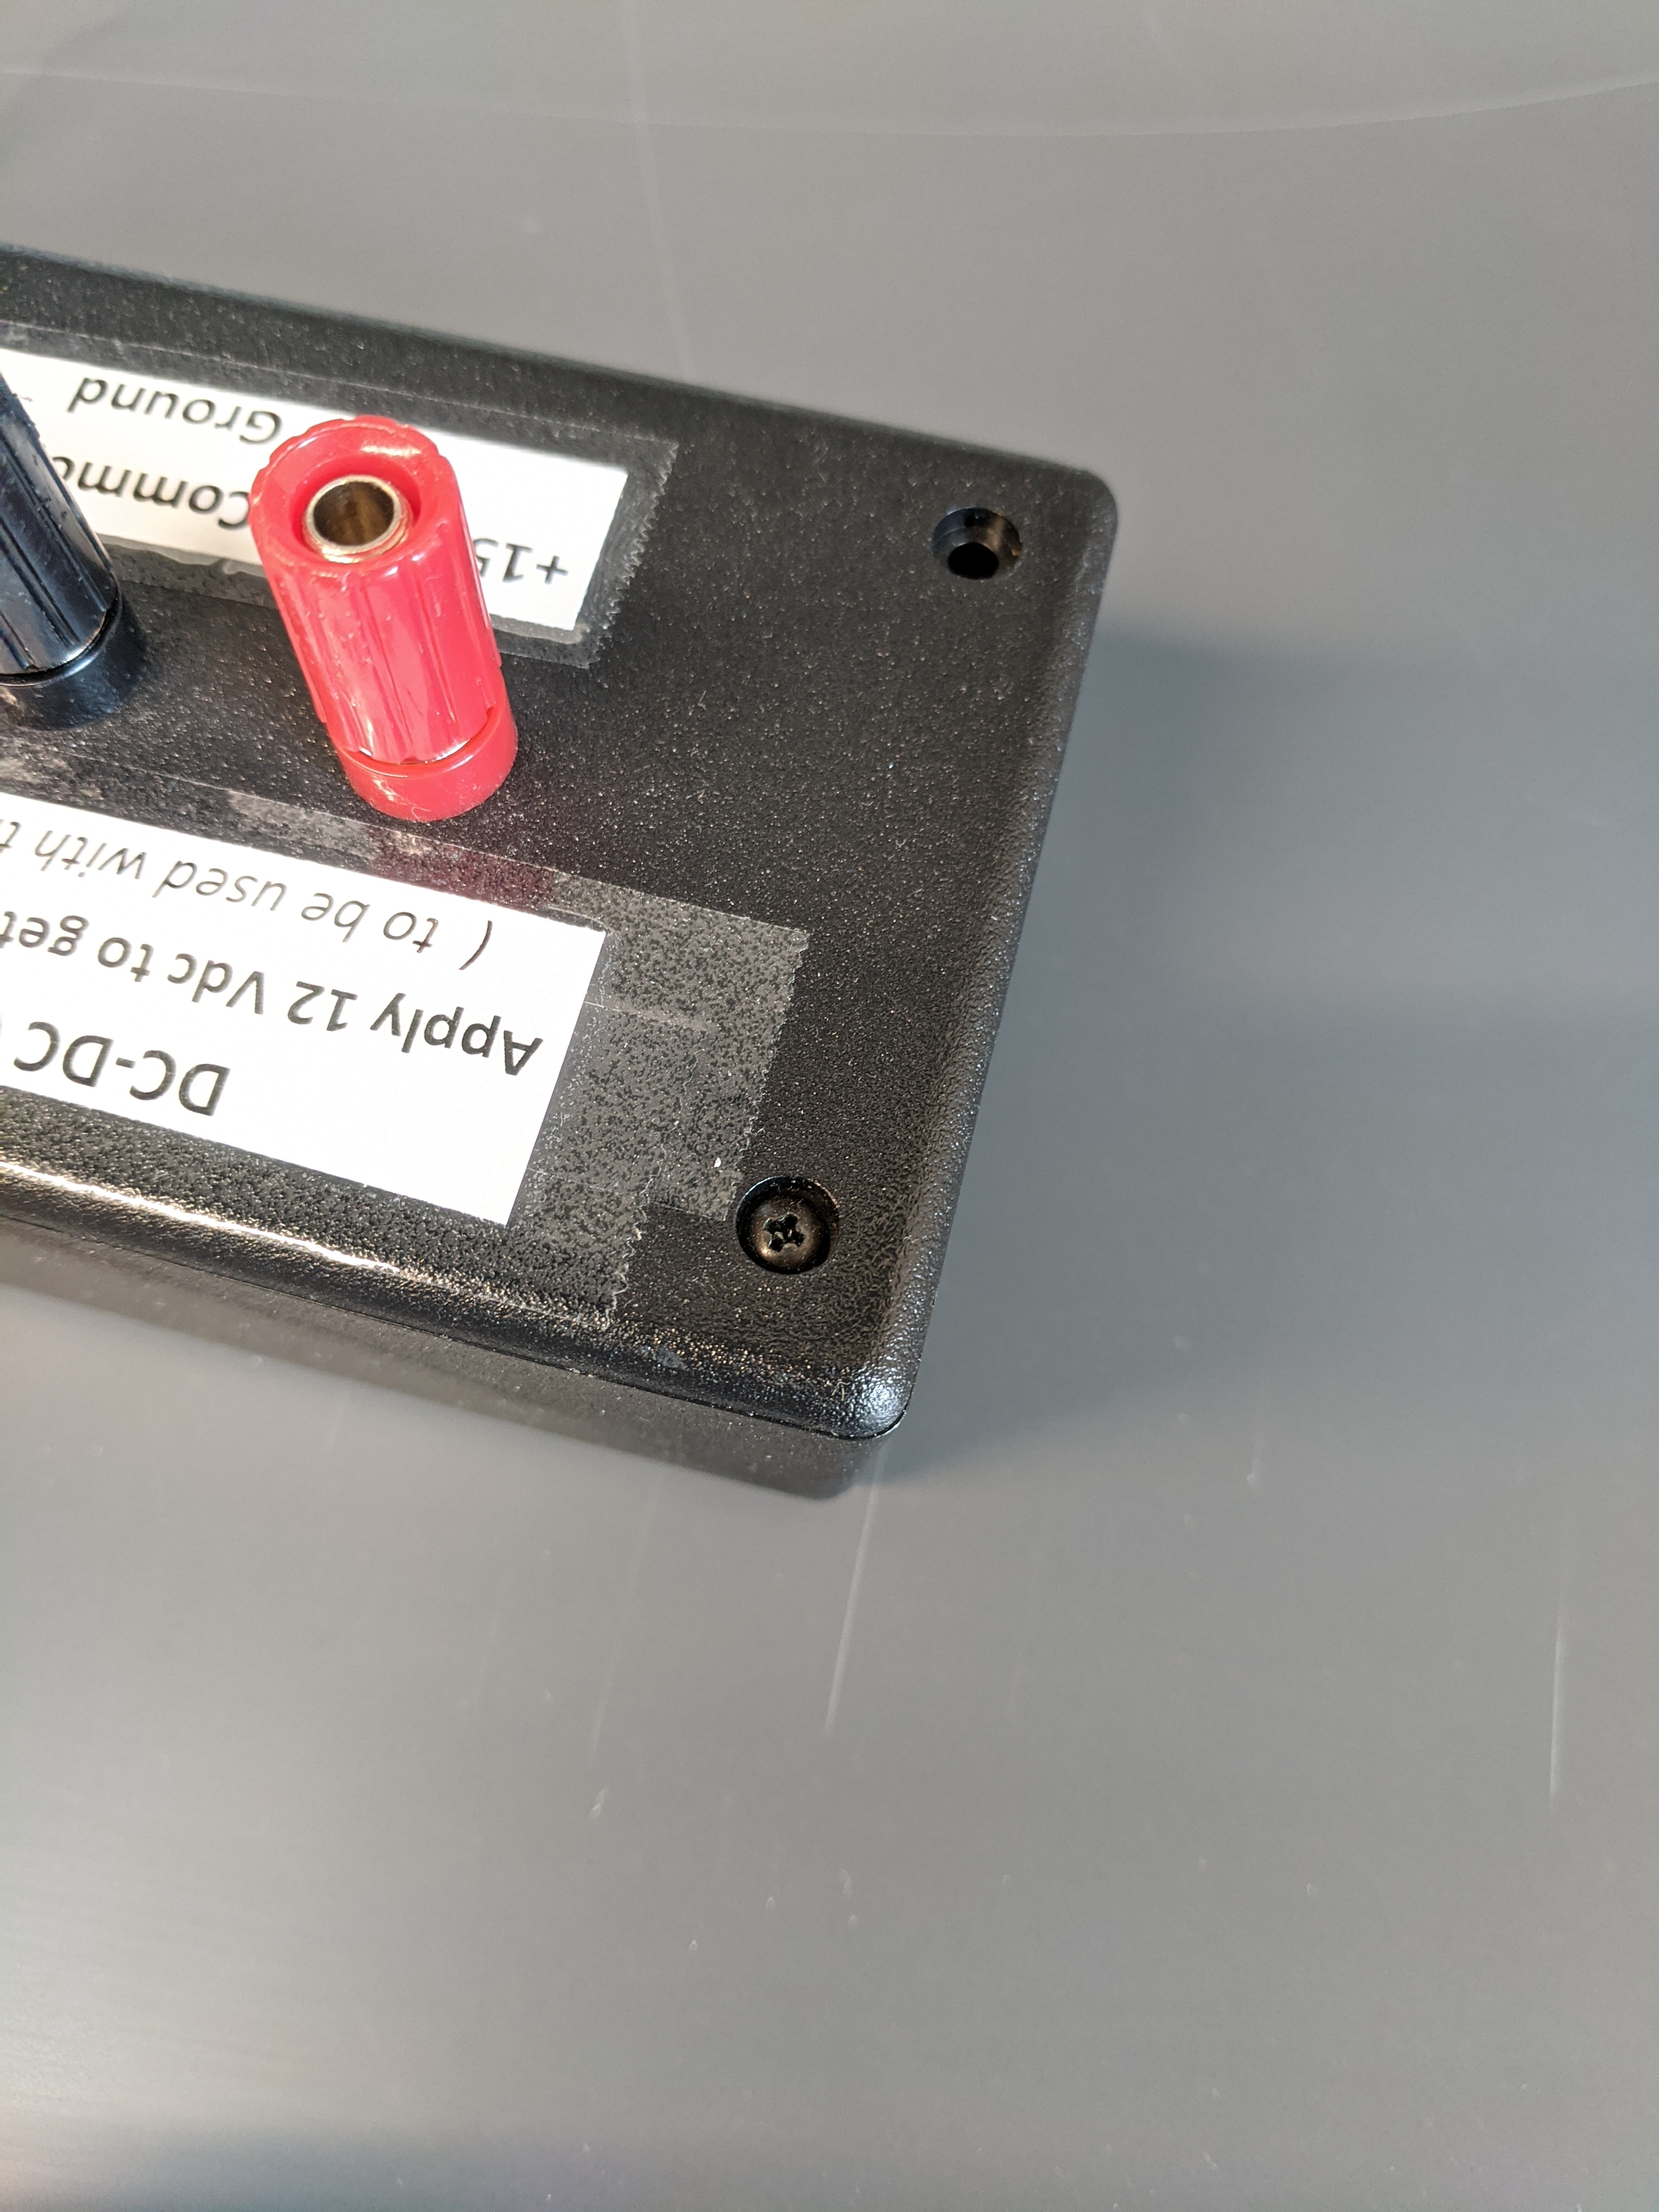cross_recessed_screw: (732, 1169, 843, 1273)
